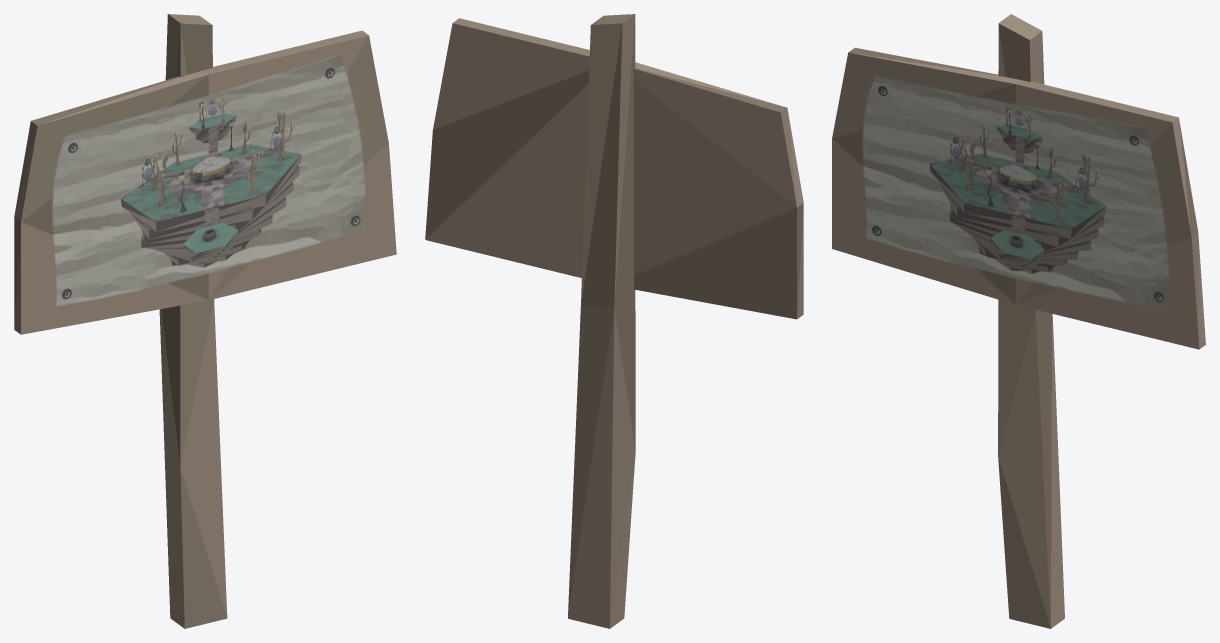
Rendered from cartel_pasoa_mecanica.FBX.
3 renders of one model, left to right at view 1: azimuth 30°, elevation 25°; view 2: azimuth 150°, elevation 25°; view 3: azimuth 330°, elevation 25°, orthographic. The views are drawn at different scales.
Visible parts, largest first — view 1: Poste003; view 2: Poste003; view 3: Poste003.
Part boxes in pixels (x1,y1,x2,y2): Poste003: (14, 14, 396, 628); Poste003: (425, 14, 803, 628); Poste003: (832, 14, 1205, 628).
Size of the model in its own units: 87.02 by 135 by 10.74.
1 material, 1 textured.
